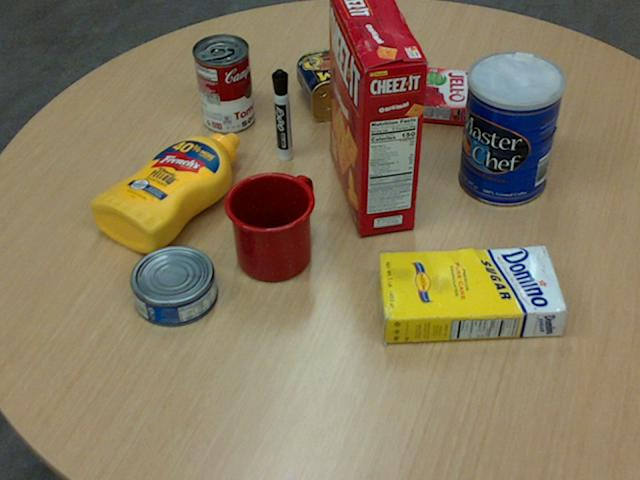cracker_box: (328, 0, 426, 234)
gelatin_box: (411, 66, 475, 124)
large_marker: (271, 69, 290, 161)
master_chef_can: (458, 51, 563, 207)
mug: (222, 171, 314, 281)
mustard_bottle: (90, 132, 238, 252)
potted_meat_can: (296, 44, 388, 121)
sugar_box: (375, 245, 567, 346)
tomato_soup_can: (192, 32, 253, 132)
tuna_fish_can: (128, 245, 216, 326)
